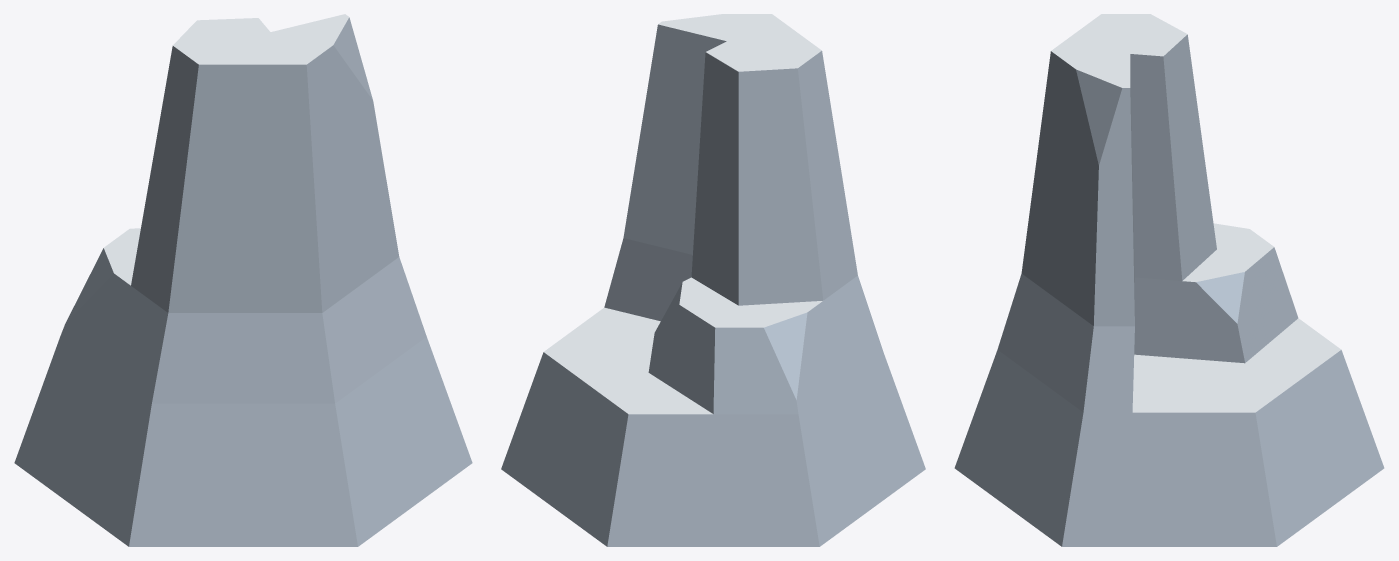
File: nk_rockice_tallH.glb
3 renders of one model, left to right at view 1: azimuth 30°, elevation 25°; view 2: azimuth 150°, elevation 25°; view 3: azimuth 270°, elevation 25°, orthographic. The views are drawn at different scales.
Parts seen in each view (by area): view 1: rock_tallH; view 2: rock_tallH; view 3: rock_tallH.
Boxes of the visible parts, x1=… form: rock_tallH: x1=14, y1=14, x2=472, y2=546; rock_tallH: x1=501, y1=14, x2=925, y2=546; rock_tallH: x1=954, y1=14, x2=1384, y2=546.
Bounding box in the file's own units: 2.8 × 3.46 × 3.23.
